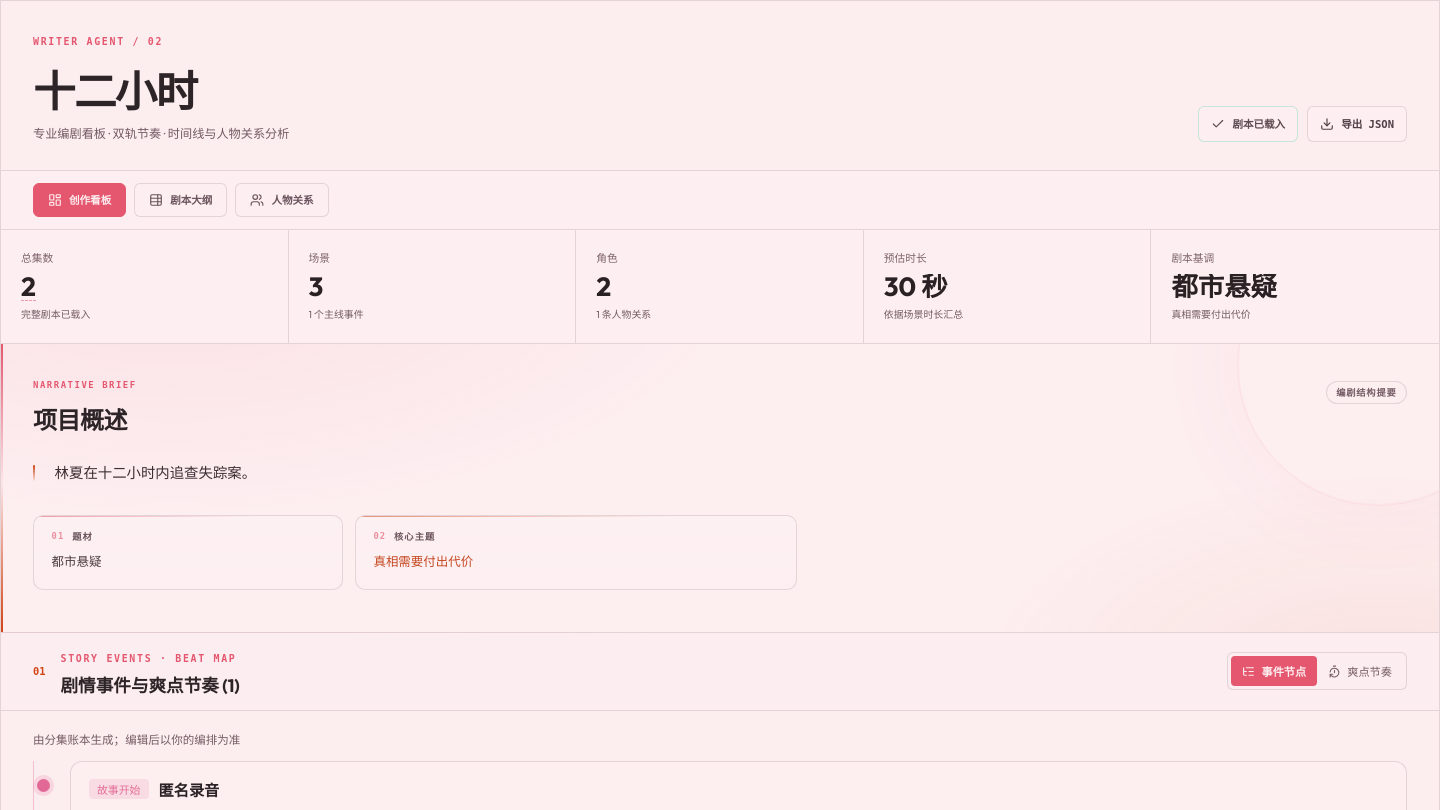
Test: WriterAgentPage script outline view › switches to a picture-free script outline table with scenes, durations, dialogue and roles
This screenshot has width=1440, height=810.
What coordinates should you click on to do the following:
click the button "剧本大纲"
I would click on:
 (181, 200)
Its box is [134, 183, 227, 217].
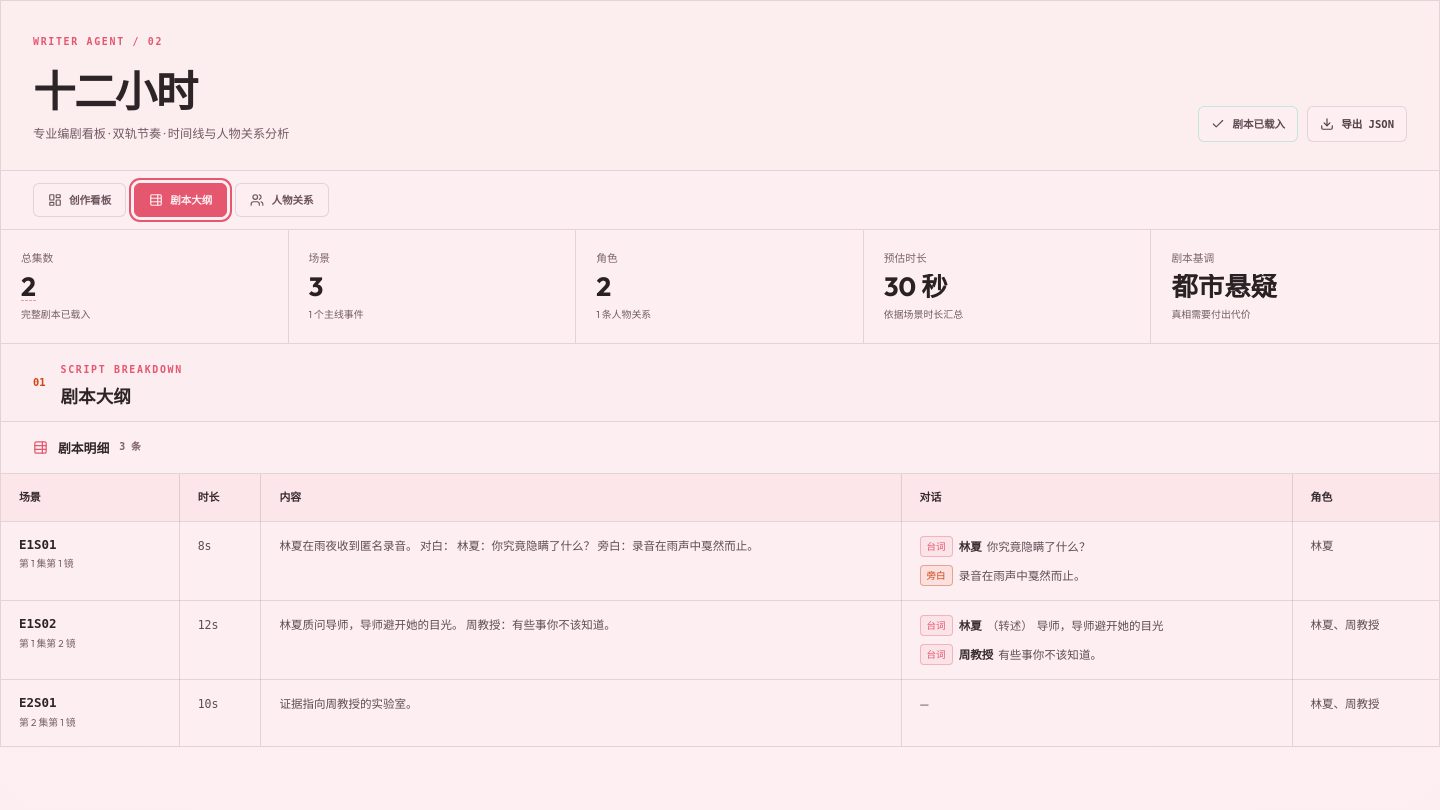
Result: the heading "剧本大纲" is shown at [60, 385, 131, 408]
Result: the column headings read "场景", "时长", "内容", "对话", "角色", in this order at [1, 474, 179, 521]; [179, 474, 261, 521]; [261, 474, 901, 521]; [901, 474, 1292, 521]; [1292, 474, 1439, 521]
Result: the text "E1S01" is shown at [19, 537, 56, 552]
What coordinates should you click on to do the following:
click the button "创作看板"
I would click on:
 (80, 200)
Its box is [33, 183, 126, 217].
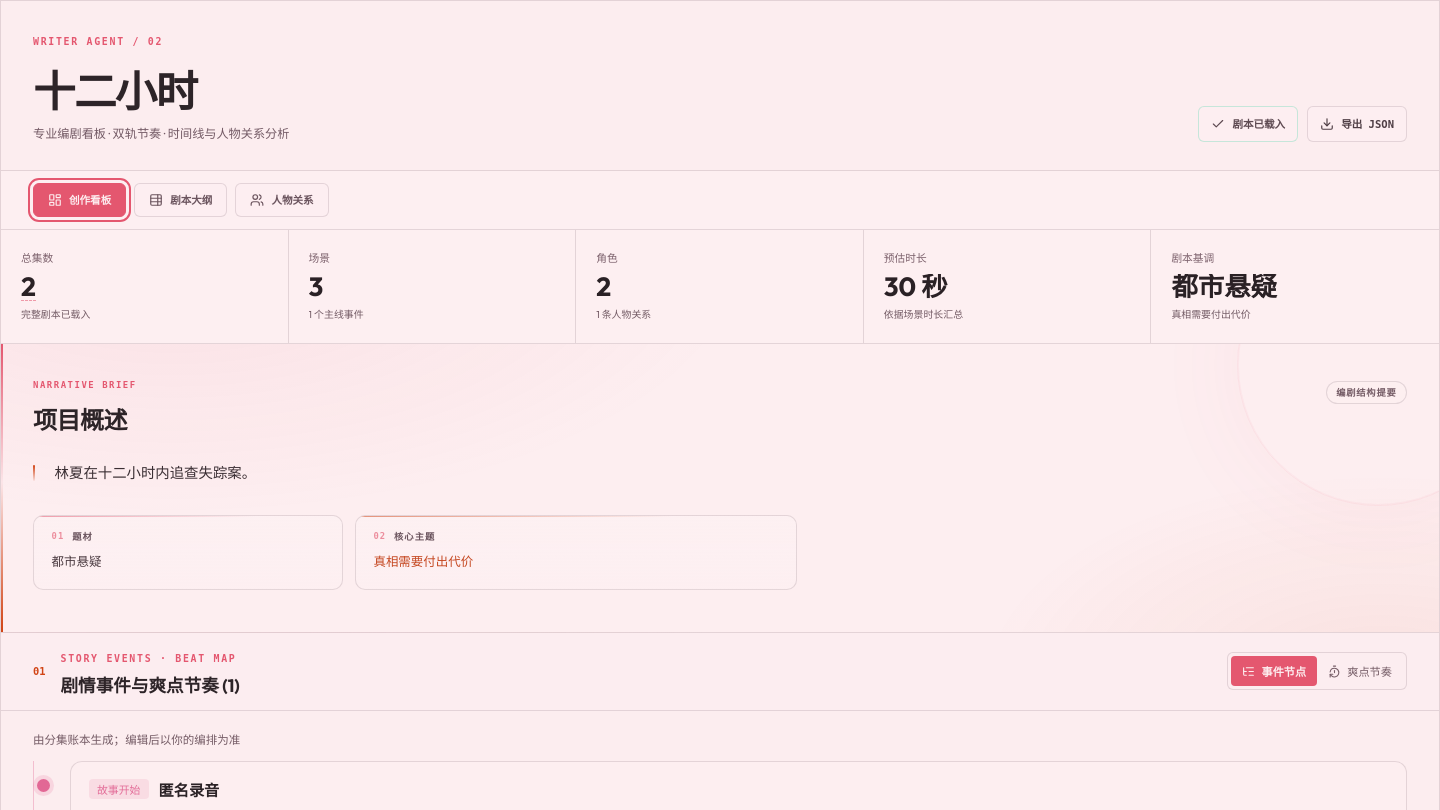
Result: the heading "剧情事件与爽点节奏 (1)" is shown at [60, 672, 240, 697]
